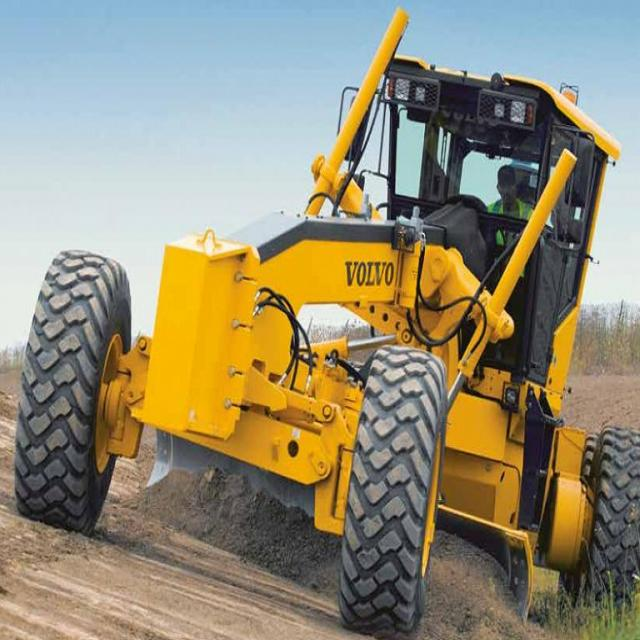Grader: (21, 29, 637, 639)
